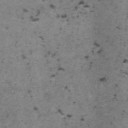oxide scale of temperature system: (0, 0, 96, 122), (84, 42, 128, 116), (115, 26, 122, 30), (32, 106, 39, 110), (28, 89, 32, 94)
